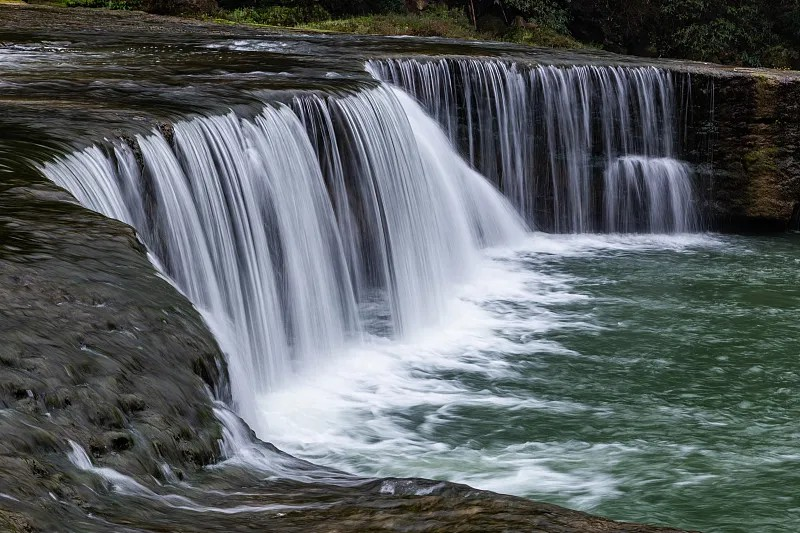Huangguoshu: (39, 59, 694, 391)
